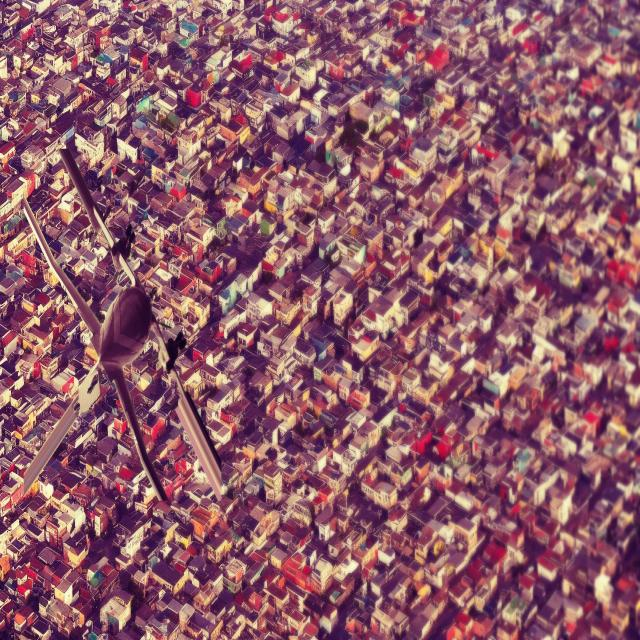airplane: (23, 149, 221, 500)
